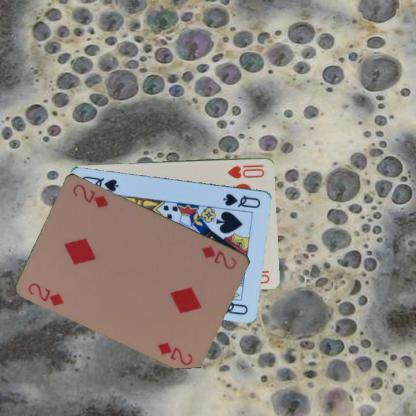10h: (225, 162, 266, 180)
2d: (25, 280, 66, 308), (199, 244, 237, 271)
Qs: (220, 191, 262, 210)
